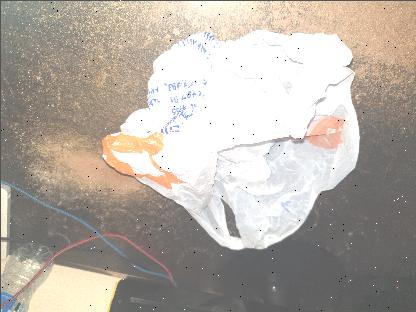Others: (96, 23, 364, 255)
Plastic Bottle: (0, 240, 54, 312)
